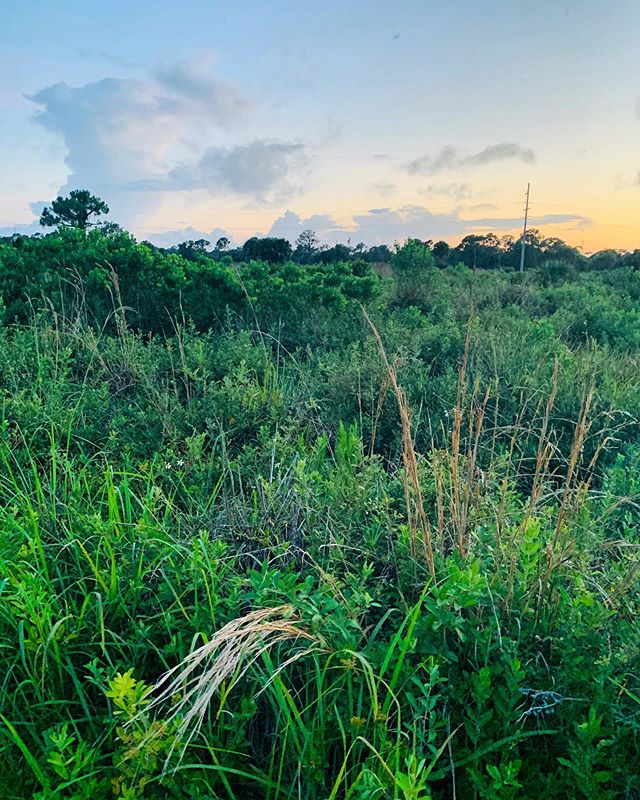sky: (1, 1, 637, 241)
vegetation: (1, 233, 639, 800)
